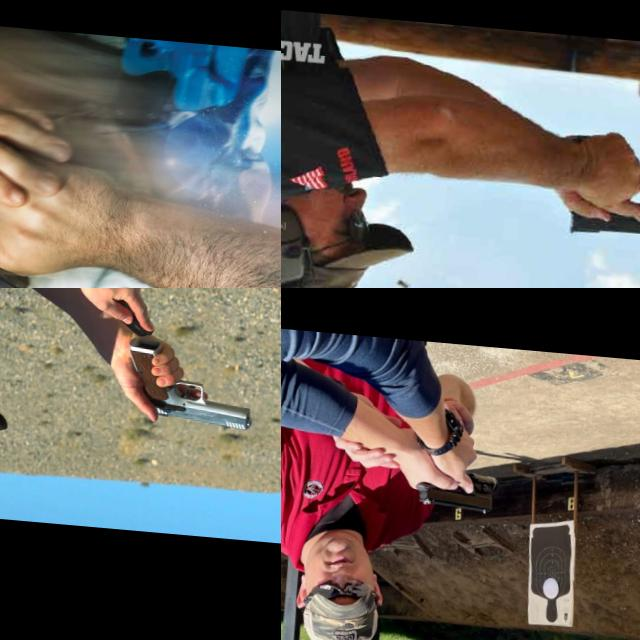handgun: (0, 132, 141, 288), (118, 331, 259, 432), (563, 176, 640, 246), (412, 477, 498, 518)
